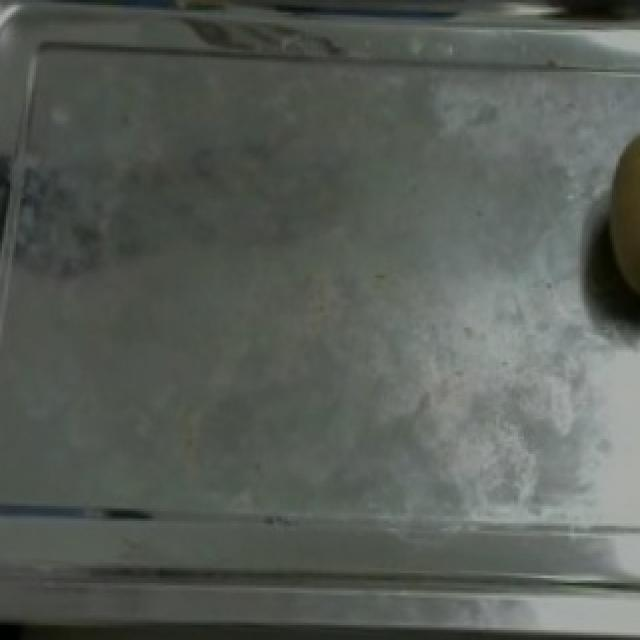Fruit: (594, 114, 640, 330)
